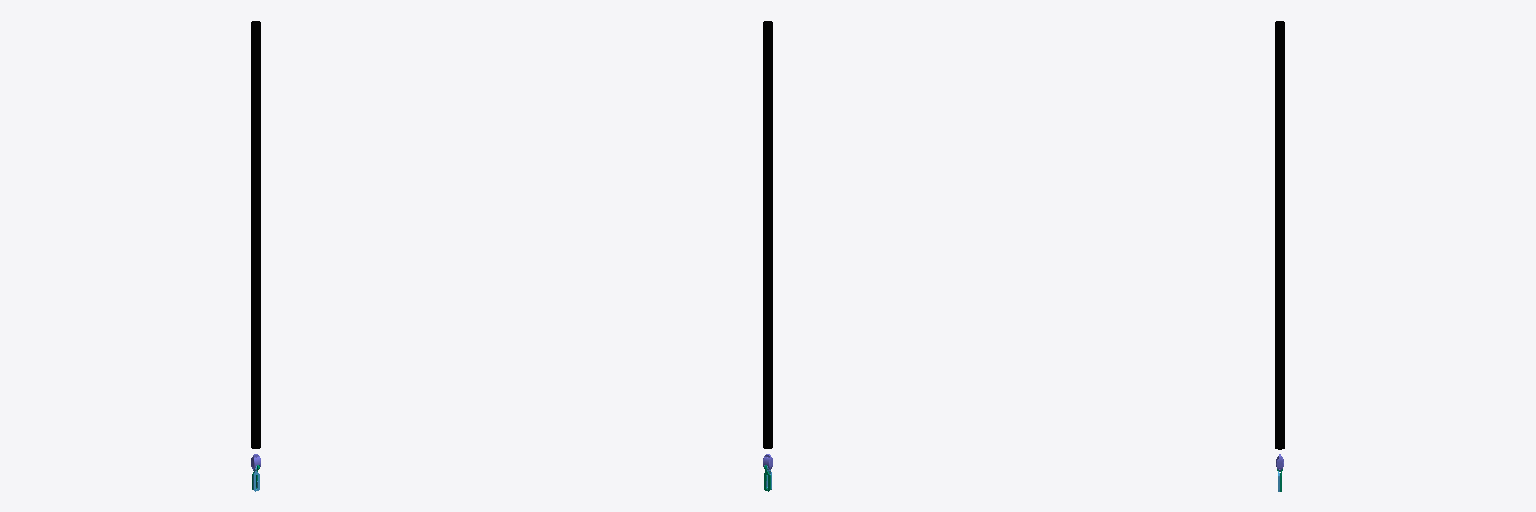
robot.urdf — surgical_tool:
<?xml version="1.0" ?>
<!-- =================================================================================== -->
<!-- |    This document was autogenerated by xacro from tool_create.urdf.xacro         | -->
<!-- |    EDITING THIS FILE BY HAND IS NOT RECOMMENDED                                 | -->
<!-- =================================================================================== -->
<robot name="surgical_tool" xmlns:xacro="http://www.ros.org/wiki/xacro">
  <!--  -->
  <link name="tool_base_link"/>
  <!-- link 1: tool_yaw -->
  <link name="tool_yaw_link">
    <inertial>
      <origin rpy="0 0 0" xyz="0 0 0"/>
      <mass value="0.05"/>
      <inertia ixx="0.01" ixy="0.0" ixz="0.0" iyy="0.01" iyz="0.0" izz="0.005"/>
    </inertial>
  </link>
  <!-- link 2: tool_pitch_link -->
  <link name="tool_pitch_link">
    <inertial>
      <origin rpy="0 0 0" xyz="0 0 0"/>
      <mass value="0.05"/>
      <inertia ixx="0.01" ixy="0.0" ixz="0.0" iyy="0.01" iyz="0.0" izz="0.005"/>
    </inertial>
  </link>
  <link name="tool_roll_link">
    <inertial>
      <origin rpy="0 0 0" xyz="0 0 0"/>
      <mass value="0.05"/>
      <inertia ixx="0.01" ixy="0.0" ixz="0.0" iyy="0.01" iyz="0.0" izz="0.005"/>
    </inertial>
  </link>
  <!-- link 3: tool_main_link -->
  <link name="tool_main_link">
    <visual>
      <origin rpy="0 0 1.5708" xyz="0 0 0"/>
      <geometry>
        <mesh filename="package://surgical_sim/model/meshes/dae/tool/tool_main_.dae"/>
      </geometry>
    </visual>
    <inertial>
      <origin rpy="0 0 0" xyz="0 0 0"/>
      <mass value="0.05"/>
      <inertia ixx="0.01" ixy="0.0" ixz="0.0" iyy="0.01" iyz="0.0" izz="0.005"/>
    </inertial>
  </link>
  <!-- link 4: tool_wrist_link -->
  <link name="tool_wrist_link">
    <visual>
      <origin rpy="0 0 1.5708" xyz="0 0 -0.0091"/>
      <geometry>
        <mesh filename="package://surgical_sim/model/meshes/dae/tool/tool_wrist_link.dae"/>
      </geometry>
    </visual>
    <inertial>
      <origin rpy="0 0 0" xyz="0 0 0"/>
      <mass value="0.05"/>
      <inertia ixx="0.01" ixy="0.0" ixz="0.0" iyy="0.01" iyz="0.0" izz="0.005"/>
    </inertial>
  </link>
  <!-- link 4-1: tool_wrist_shaft_link -->
  <link name="tool_wrist_shaft_link">
    <visual>
      <origin rpy="1.5708 0 0" xyz="0 0.00401 0"/>
      <geometry>
        <mesh filename="package://surgical_sim/model/meshes/dae/tool/tool_wrist_shaft_link.dae"/>
      </geometry>
    </visual>
    <inertial>
      <origin rpy="0 0 0" xyz="0 0 0"/>
      <mass value="0.05"/>
      <inertia ixx="0.01" ixy="0.0" ixz="0.0" iyy="0.01" iyz="0.0" izz="0.005"/>
    </inertial>
  </link>
  <gazebo reference="tool_yaw_link">
    <turnGravityOff>true</turnGravityOff>
    <mu1>0.112</mu1>
    <mu2>0.112</mu2>
    <kp>1000000</kp>
    <kd>1</kd>
    <selfCollide>true</selfCollide>
    <maxVel>0.01</maxVel>
    <minDepth>0.003</minDepth>
  </gazebo>
  <gazebo reference="tool_pitch_link">
    <turnGravityOff>true</turnGravityOff>
    <mu1>0.112</mu1>
    <mu2>0.112</mu2>
    <kp>1000000</kp>
    <kd>1</kd>
    <selfCollide>true</selfCollide>
    <maxVel>0.01</maxVel>
    <minDepth>0.003</minDepth>
  </gazebo>
  <gazebo reference="tool_main_link">
    <turnGravityOff>true</turnGravityOff>
    <mu1>0.112</mu1>
    <mu2>0.112</mu2>
    <kp>1000000</kp>
    <kd>1</kd>
    <selfCollide>true</selfCollide>
    <maxVel>0.01</maxVel>
    <minDepth>0.003</minDepth>
  </gazebo>
  <gazebo reference="tool_wrist_link">
    <turnGravityOff>true</turnGravityOff>
    <mu1>0.112</mu1>
    <mu2>0.112</mu2>
    <kp>1000000</kp>
    <kd>1</kd>
    <selfCollide>true</selfCollide>
    <maxVel>0.01</maxVel>
    <minDepth>0.003</minDepth>
  </gazebo>
  <gazebo reference="tool_shaft_link">
    <turnGravityOff>true</turnGravityOff>
    <mu1>0.112</mu1>
    <mu2>0.112</mu2>
    <kp>1000000</kp>
    <kd>1</kd>
    <selfCollide>true</selfCollide>
    <maxVel>0.01</maxVel>
    <minDepth>0.003</minDepth>
  </gazebo>
  <!-- joint 1: tool_yaw -->
  <joint name="tool_pitch" type="revolute">
    <parent link="tool_base_link"/>
    <child link="tool_pitch_link"/>
    <axis xyz="0 0 1"/>
    <origin rpy="0 -1.57079632679 3.14159265359" xyz="0.0 0.0 0.0"/>
    <limit effort="1000" lower="-1.5707" upper="1.5707" velocity="3"/>
  </joint>
  <!-- joint 2: tool_pitch -->
  <joint name="tool_roll" type="revolute">
    <parent link="tool_pitch_link"/>
    <child link="tool_roll_link"/>
    <axis xyz="0 0 1"/>
    <origin rpy="-1.57079632679 -1.57079632679 0" xyz="0 0 0"/>
    <limit effort="1000" lower="-1.5707" upper="1.5707" velocity="3"/>
  </joint>
  <!-- joint : tool Roll -->
  <joint name="tool_yaw" type="revolute">
    <parent link="tool_roll_link"/>
    <child link="tool_yaw_link"/>
    <axis xyz="0 0 1"/>
    <origin rpy="1.57079632679 0 0" xyz="0 0 0"/>
    <limit effort="1000" lower="-4.71238898038" upper="4.71238898038" velocity="3"/>
  </joint>
  <!-- joint 3: insertion -->
  <joint name="tool_insertion" type="prismatic">
    <parent link="tool_yaw_link"/>
    <child link="tool_main_link"/>
    <axis xyz="0 0 1"/>
    <origin rpy="0 0 0" xyz="0 0 -0.3908"/>
    <limit effort="1000" lower="0" upper="0.240" velocity="3"/>
  </joint>
  <joint name="tool_wrist_fixed" type="fixed">
    <parent link="tool_main_link"/>
    <child link="tool_wrist_link"/>
    <axis xyz="0 0 1"/>
    <origin rpy="0 0 0" xyz="0 0 0.3752"/>
  </joint>
   --&gt;


    
  <!-- joint 4-1: tool roll shaft joint FIXED-->
  <joint name="wrist_fixed" type="fixed">
    <parent link="tool_wrist_link"/>
    <child link="tool_wrist_shaft_link"/>
    <axis xyz="0 0 1"/>
    <origin rpy="0 0 0" xyz="0 0 0.0"/>
  </joint>
  <transmission name="tool_yaw_trans">
    <type>transmission_interface/SimpleTransmission</type>
    <joint name="tool_yaw">
      <hardwareInterface>hardware_interface/EffortJointInterface</hardwareInterface>
    </joint>
    <actuator name="tool_yaw_motor">
      <hardwareInterface>hardware_interface/EffortJointInterface</hardwareInterface>
      <mechanicalReduction>1</mechanicalReduction>
    </actuator>
  </transmission>
  <transmission name="tool_pitch_trans">
    <type>transmission_interface/SimpleTransmission</type>
    <joint name="tool_pitch">
      <hardwareInterface>hardware_interface/EffortJointInterface</hardwareInterface>
    </joint>
    <actuator name="tool_pitch_motor">
      <hardwareInterface>hardware_interface/EffortJointInterface</hardwareInterface>
      <mechanicalReduction>1</mechanicalReduction>
    </actuator>
  </transmission>
  <transmission name="tool_roll_trans">
    <type>transmission_interface/SimpleTransmission</type>
    <joint name="tool_roll">
      <hardwareInterface>hardware_interface/EffortJointInterface</hardwareInterface>
    </joint>
    <actuator name="tool_roll_motor">
      <hardwareInterface>hardware_interface/EffortJointInterface</hardwareInterface>
      <mechanicalReduction>1</mechanicalReduction>
    </actuator>
  </transmission>
  <transmission name="tool_insertion_trans">
    <type>transmission_interface/SimpleTransmission</type>
    <joint name="tool_insertion">
      <hardwareInterface>hardware_interface/EffortJointInterface</hardwareInterface>
    </joint>
    <actuator name="tool_insertion_motor">
      <hardwareInterface>hardware_interface/EffortJointInterface</hardwareInterface>
      <mechanicalReduction>1</mechanicalReduction>
    </actuator>
  </transmission>
  <gazebo reference="tool_yaw">
    <implicitSpringDamper>0</implicitSpringDamper>
    <provideFeedback>1</provideFeedback>
    <!--stopCfm></stopCfm-->
    <!-- Force Mixing Error -->
    <!--stopErp></stopErp-->
    <!-- Error Reduction Parameter -->
    <!-- <fudgeFactor>0.5</fudgeFactor> -->
  </gazebo>
  <gazebo reference="tool_pitch">
    <implicitSpringDamper>0</implicitSpringDamper>
    <provideFeedback>1</provideFeedback>
    <!--stopCfm></stopCfm-->
    <!-- Force Mixing Error -->
    <!--stopErp></stopErp-->
    <!-- Error Reduction Parameter -->
    <!-- <fudgeFactor>0.5</fudgeFactor> -->
  </gazebo>
  <gazebo reference="tool_roll">
    <implicitSpringDamper>0</implicitSpringDamper>
    <provideFeedback>1</provideFeedback>
    <!--stopCfm></stopCfm-->
    <!-- Force Mixing Error -->
    <!--stopErp></stopErp-->
    <!-- Error Reduction Parameter -->
    <!-- <fudgeFactor>0.5</fudgeFactor> -->
  </gazebo>
  <gazebo reference="tool_insertion">
    <implicitSpringDamper>0</implicitSpringDamper>
    <provideFeedback>1</provideFeedback>
    <!--stopCfm></stopCfm-->
    <!-- Force Mixing Error -->
    <!--stopErp></stopErp-->
    <!-- Error Reduction Parameter -->
    <!-- <fudgeFactor>0.5</fudgeFactor> -->
  </gazebo>
  <!-- link 5: tool_wrist_forceps_link -->
  <link name="tool_wrist_forceps_link">
    <visual>
      <origin rpy="0.00 -1.5708 0.0" xyz="-0.0024 0.00 0.000"/>
      <geometry>
        <mesh filename="package://surgical_sim/model/meshes/stl/tool/tool_wrist_forceps_link_1.stl"/>
      </geometry>
      <material name="gray">
        <color rgba="0.5 0.5 0.9 1.0"/>
      </material>
    </visual>
    <collision>
      <origin rpy="0.00 -1.5708 0.0" xyz="-0.0024 0.00 0.000"/>
      <geometry>
        <mesh filename="package://surgical_sim/model/meshes/stl/tool/tool_wrist_forceps_link_1.stl"/>
      </geometry>
    </collision>
    <inertial>
      <origin rpy="0 0 0" xyz="0 0 0"/>
      <mass value="1"/>
      <inertia ixx="1" ixy="0.0" ixz="0.0" iyy="1" iyz="0.0" izz="1"/>
    </inertial>
  </link>
  <!-- link 6: tool_wrist_forceps_link_shaft -->
  <link name="tool_wrist_forceps_link_shaft">
    <visual>
      <origin rpy="0.00 1.5708 0.0" xyz="0.0 -0.0002 0.000"/>
      <geometry>
        <mesh filename="package://surgical_sim/model/meshes/stl/tool/tool_wrist_forceps_link_1_shaft.stl"/>
      </geometry>
      <material name="gray">
        <color rgba="0.5 0.5 0.9 1.0"/>
      </material>
    </visual>
    <collision>
      <origin rpy="0.00 1.5708 0.0" xyz="0.0 0.00 0.000"/>
      <geometry>
        <mesh filename="package://surgical_sim/model/meshes/stl/tool/tool_wrist_forceps_link_1_shaft.stl"/>
      </geometry>
    </collision>
    <inertial>
      <origin rpy="0 0 0" xyz="0 0 0"/>
      <mass value="1"/>
      <inertia ixx="1" ixy="0.0" ixz="0.0" iyy="1" iyz="0.0" izz="1"/>
    </inertial>
  </link>
  <!-- link 6-1: Outer open angle link 1 -->
  <link name="tool_wrist_forceps_link_2_left">
    <visual>
      <origin rpy="0.0 0 0.0" xyz="0 0 0.00195"/>
      <geometry>
        <mesh filename="package://surgical_sim/model/meshes/stl/tool/tool_wrist_forceps_link_2_left.stl"/>
      </geometry>
    </visual>
    <collision>
      <origin rpy="0.0 0 0.0" xyz="0 0 0.00195"/>
      <geometry>
        <mesh filename="package://surgical_sim/model/meshes/stl/tool/tool_wrist_forceps_link_2_left.stl"/>
      </geometry>
    </collision>
    <inertial>
      <origin rpy="0 0 0" xyz="0 0 0"/>
      <mass value="1"/>
      <inertia ixx="1" ixy="0.0" ixz="0.0" iyy="1" iyz="0.0" izz="1"/>
    </inertial>
  </link>
  <!-- link 6-2: Outer open angle link 2 -->
  <link name="tool_wrist_forceps_link_2_right">
    <visual>
      <origin rpy="0 0 -3.1415926" xyz="0 0 0.00195"/>
      <geometry>
        <mesh filename="package://surgical_sim/model/meshes/stl/tool/tool_wrist_forceps_link_2_right.stl"/>
      </geometry>
    </visual>
    <collision>
      <origin rpy="0 0 -3.1415926" xyz="0 0 0.00195"/>
      <geometry>
        <mesh filename="package://surgical_sim/model/meshes/stl/tool/tool_wrist_forceps_link_2_right.stl"/>
      </geometry>
    </collision>
    <inertial>
      <origin rpy="0 0 0" xyz="0 0 0"/>
      <mass value="1"/>
      <inertia ixx="1" ixy="0.0" ixz="0.0" iyy="1" iyz="0.0" izz="1"/>
    </inertial>
  </link>
  <link name="tool_tip_link"/>
  <link name="tool_tip_link_ee"/>
  <gazebo reference="tool_wrist_forceps_link">
    <turnGravityOff>true</turnGravityOff>
    <mu1>0.112</mu1>
    <mu2>0.112</mu2>
    <kp>1000000</kp>
    <kd>1</kd>
    <selfCollide>true</selfCollide>
    <maxVel>0.01</maxVel>
    <minDepth>0.003</minDepth>
  </gazebo>
  <gazebo reference="tool_wrist_forceps_link_shaft">
    <turnGravityOff>true</turnGravityOff>
    <mu1>0.112</mu1>
    <mu2>0.112</mu2>
    <kp>1000000</kp>
    <kd>1</kd>
    <selfCollide>true</selfCollide>
    <maxVel>0.01</maxVel>
    <minDepth>0.003</minDepth>
  </gazebo>
  <gazebo reference="tool_wrist_forceps_link_2_left">
    <turnGravityOff>true</turnGravityOff>
    <mu1>0.112</mu1>
    <mu2>0.112</mu2>
    <kp>1000000</kp>
    <kd>1</kd>
    <selfCollide>true</selfCollide>
    <maxVel>0.01</maxVel>
    <minDepth>0.003</minDepth>
  </gazebo>
  <gazebo reference="tool_wrist_forceps_link_2_right">
    <turnGravityOff>true</turnGravityOff>
    <mu1>0.112</mu1>
    <mu2>0.112</mu2>
    <kp>1000000</kp>
    <kd>1</kd>
    <selfCollide>true</selfCollide>
    <maxVel>0.01</maxVel>
    <minDepth>0.003</minDepth>
  </gazebo>
  <gazebo reference="tool_wrist_link">
    <turnGravityOff>true</turnGravityOff>
    <mu1>0.112</mu1>
    <mu2>0.112</mu2>
    <kp>1000000</kp>
    <kd>1</kd>
    <selfCollide>true</selfCollide>
    <maxVel>0.01</maxVel>
    <minDepth>0.003</minDepth>
  </gazebo>
  <gazebo reference="tool_shaft_link">
    <turnGravityOff>true</turnGravityOff>
    <mu1>0.112</mu1>
    <mu2>0.112</mu2>
    <kp>1000000</kp>
    <kd>1</kd>
    <selfCollide>true</selfCollide>
    <maxVel>0.01</maxVel>
    <minDepth>0.003</minDepth>
  </gazebo>
  <!-- joint 5: tool wrist pitch joint -->
  <joint name="tool_wrist_pitch" type="revolute">
    <parent link="tool_wrist_shaft_link"/>
    <!-- <parent link="world"/> -->
    <child link="tool_wrist_forceps_link"/>
    <axis xyz="0 0 1"/>
    <origin rpy="-1.5708 -1.5708 3.14159265359" xyz="0 0 0"/>
    <limit effort="1000" lower="-1.57079632679" upper="1.57079632679" velocity=".4"/>
  </joint>
  <!-- joint 6: Tool wrist yaw joint -->
  <joint name="tool_wrist_yaw" type="revolute">
    <parent link="tool_wrist_forceps_link"/>
    <child link="tool_wrist_forceps_link_shaft"/>
    <axis xyz="0 0 1"/>
    <origin rpy="0.00 -1.5708 -1.5708" xyz="0.0091 0 0"/>
    <limit effort="1000" lower="-1.57079632679" upper="1.57079632679" velocity=".4"/>
  </joint>
  <!-- joint 6-1: tool open angle 1 -->
  <joint name="tool_wrist_open_angle" type="revolute">
    <parent link="tool_wrist_forceps_link_shaft"/>
    <child link="tool_wrist_forceps_link_2_left"/>
    <axis xyz="0 0 1"/>
    <origin rpy="0 0 0" xyz="0 0 0"/>
    <limit effort="1000" lower="0" upper="1.57079632679" velocity=".4"/>
  </joint>
  <!-- joint 6-2: tool open angle 2  -->
  <joint name="tool_wrist_open_angle_mimic" type="revolute">
    <parent link="tool_wrist_forceps_link_shaft"/>
    <child link="tool_wrist_forceps_link_2_right"/>
    <axis xyz="0 0 1"/>
    <origin rpy="3.1415926 0 0" xyz="0 0 0"/>
    <limit effort="1000" lower="0" upper="0.785398163397" velocity=".4"/>
    <mimic joint="tool_wrist_open_angle" multiplier="1"/>
  </joint>
  <!-- tool tip -->
  <joint name="tool_tip_" type="fixed">
    <parent link="tool_wrist_forceps_link_shaft"/>
    <child link="tool_tip_link"/>
    <origin rpy="0 1.57079632679 1.57079632679" xyz="0 0.0202 0"/>
  </joint>
  <joint name="tool_tip_ee" type="fixed">
    <parent link="tool_tip_link"/>
    <child link="tool_tip_link_ee"/>
    <origin rpy="3.14159265359 0 -1.57079632679" xyz="0 0 0"/>
  </joint>
  <transmission name="tool_wrist_pitch_trans">
    <type>transmission_interface/SimpleTransmission</type>
    <joint name="tool_wrist_pitch">
      <hardwareInterface>hardware_interface/EffortJointInterface</hardwareInterface>
    </joint>
    <actuator name="tool_wrist_pitch_motor">
      <hardwareInterface>hardware_interface/EffortJointInterface</hardwareInterface>
      <mechanicalReduction>1</mechanicalReduction>
    </actuator>
  </transmission>
  <transmission name="tool_wrist_yaw_trans">
    <type>transmission_interface/SimpleTransmission</type>
    <joint name="tool_wrist_yaw">
      <hardwareInterface>hardware_interface/EffortJointInterface</hardwareInterface>
    </joint>
    <actuator name="tool_wrist_yaw_motor">
      <hardwareInterface>hardware_interface/EffortJointInterface</hardwareInterface>
      <mechanicalReduction>1</mechanicalReduction>
    </actuator>
  </transmission>
  <transmission name="tool_wrist_open_angle_trans">
    <type>transmission_interface/SimpleTransmission</type>
    <joint name="tool_wrist_open_angle">
      <hardwareInterface>hardware_interface/EffortJointInterface</hardwareInterface>
    </joint>
    <actuator name="tool_wrist_open_angle_motor">
      <hardwareInterface>hardware_interface/EffortJointInterface</hardwareInterface>
      <mechanicalReduction>1</mechanicalReduction>
    </actuator>
  </transmission>
  <transmission name="tool_wrist_open_angle_mimic_trans">
    <type>transmission_interface/SimpleTransmission</type>
    <joint name="tool_wrist_open_angle_mimic">
      <hardwareInterface>hardware_interface/EffortJointInterface</hardwareInterface>
    </joint>
    <actuator name="tool_wrist_open_angle_mimic_motor">
      <hardwareInterface>hardware_interface/EffortJointInterface</hardwareInterface>
      <mechanicalReduction>1</mechanicalReduction>
    </actuator>
  </transmission>
  <gazebo reference="tool_wrist_pitch">
    <implicitSpringDamper>0</implicitSpringDamper>
    <provideFeedback>1</provideFeedback>
    <!--stopCfm></stopCfm-->
    <!-- Force Mixing Error -->
    <!--stopErp></stopErp-->
    <!-- Error Reduction Parameter -->
    <!-- <fudgeFactor>0.5</fudgeFactor> -->
  </gazebo>
  <gazebo reference="tool_wrist_yaw">
    <implicitSpringDamper>0</implicitSpringDamper>
    <provideFeedback>1</provideFeedback>
    <!--stopCfm></stopCfm-->
    <!-- Force Mixing Error -->
    <!--stopErp></stopErp-->
    <!-- Error Reduction Parameter -->
    <!-- <fudgeFactor>0.5</fudgeFactor> -->
  </gazebo>
  <gazebo reference="tool_wrist_open_angle">
    <implicitSpringDamper>0</implicitSpringDamper>
    <provideFeedback>1</provideFeedback>
    <!--stopCfm></stopCfm-->
    <!-- Force Mixing Error -->
    <!--stopErp></stopErp-->
    <!-- Error Reduction Parameter -->
    <!-- <fudgeFactor>0.5</fudgeFactor> -->
  </gazebo>
  <gazebo reference="tool_wrist_open_angle_mimic">
    <implicitSpringDamper>0</implicitSpringDamper>
    <provideFeedback>1</provideFeedback>
    <!--stopCfm></stopCfm-->
    <!-- Force Mixing Error -->
    <!--stopErp></stopErp-->
    <!-- Error Reduction Parameter -->
    <!-- <fudgeFactor>0.5</fudgeFactor> -->
  </gazebo>
  <gazebo>
    <plugin filename="libgazebo_ros_control.so" name="gazebo_ros_control">
      <robotNamespace/>
      <robotSimType>gazebo_ros_control/DefaultRobotHWSim</robotSimType>
      <legacyModeNS>true</legacyModeNS>
    </plugin>
  </gazebo>
</robot>

--- Facts derived from the render (not from the file) ---
Views: 3 orthographic renders of the robot side by side, from view 1: azimuth 30°, elevation 25°; view 2: azimuth 150°, elevation 25°; view 3: azimuth 270°, elevation 25°.
Model surgical_tool with 13 links and 12 joints (7 revolute, 1 prismatic, 4 fixed), rooted at tool_base_link, posed every joint at zero.
Links seen in each view (by area): view 1: tool_main_link; view 2: tool_main_link; view 3: tool_main_link.
Link boxes in pixels (x1,y1,x2,y2): tool_main_link: (251,21,260,448); tool_main_link: (763,21,772,448); tool_main_link: (1275,21,1284,449).
Size in the robot's own frame: 0.0084 by 0.0084 by 0.4042 metres.
5 mesh visuals loaded from 7 distinct referenced files (4 binary STL, 1 Collada DAE); not drawn: 2 (reference not matched to a file when rendering).
